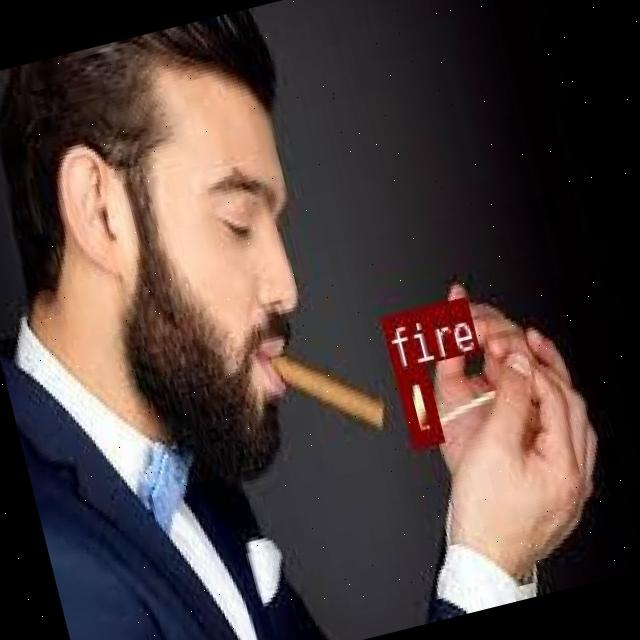fire: (393, 364, 442, 446)
